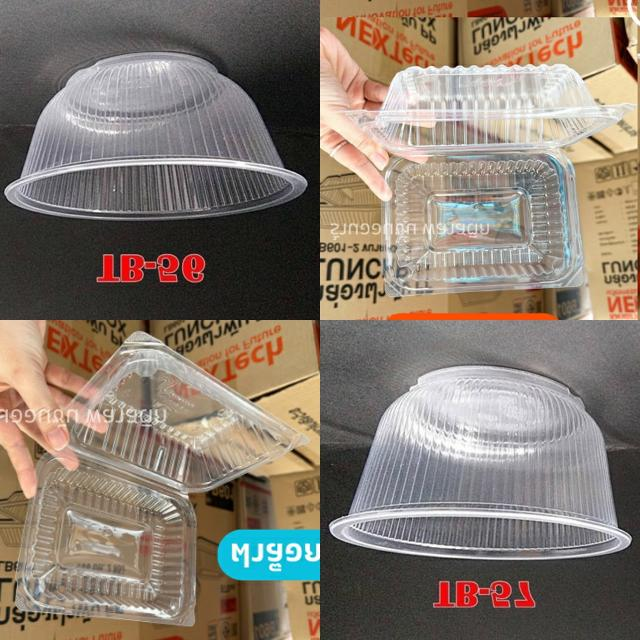Single-Use-Plastic: (16, 332, 304, 626), (350, 65, 632, 296), (330, 366, 630, 559), (5, 52, 306, 220)
